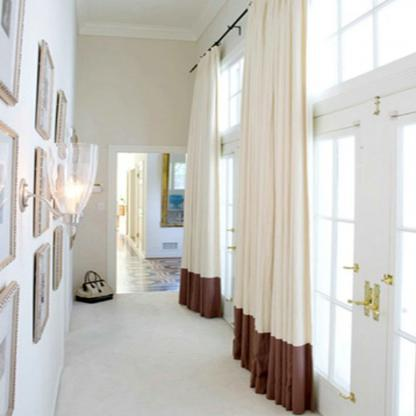door: (310, 103, 373, 415), (372, 93, 416, 416)
lever: (363, 304, 382, 315), (346, 298, 370, 306)
